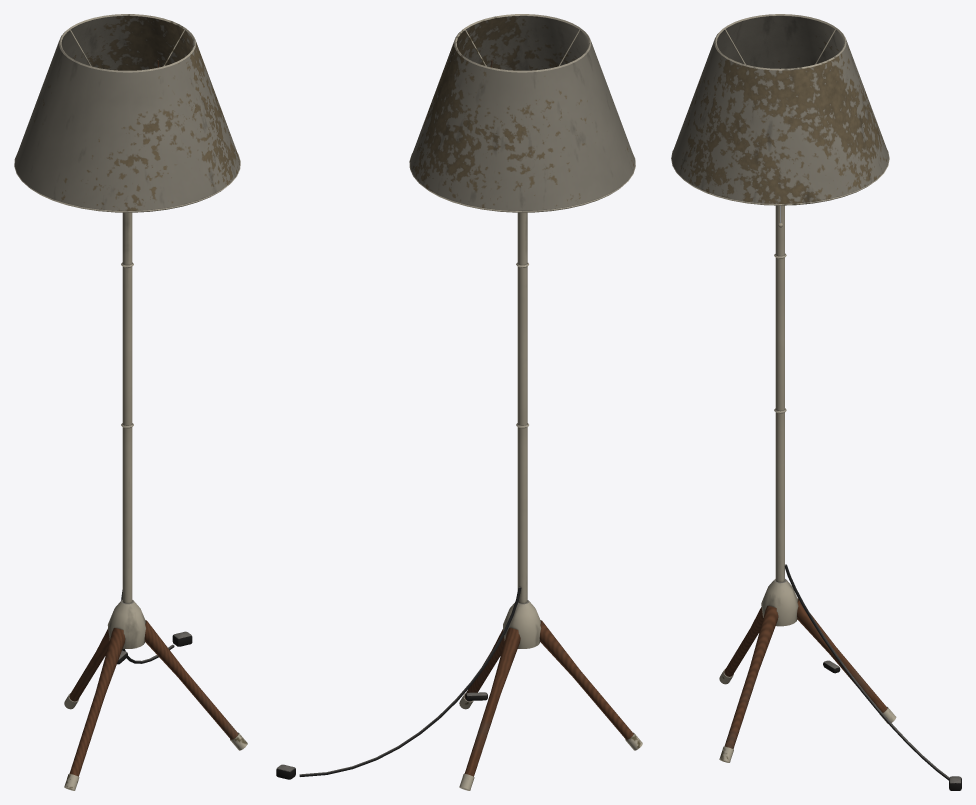
Rendered from SM_FloorLamp.fbx.
The picture shows the model from 3 angles, left to right: view 1: azimuth 30°, elevation 25°; view 2: azimuth 150°, elevation 25°; view 3: azimuth 270°, elevation 25°; orthographic projection. The views are drawn at different scales.
Parts seen in each view (by area): view 1: SM_FloorLamp; view 2: SM_FloorLamp; view 3: SM_FloorLamp.
Part boxes in pixels (x1=…): SM_FloorLamp: x1=14, y1=14, x2=247, y2=790; SM_FloorLamp: x1=276, y1=14, x2=642, y2=790; SM_FloorLamp: x1=671, y1=14, x2=961, y2=790.
Bounding box in the file's own units: 0.656 × 1.76 × 0.681.
Materials: 1 (1 with a texture image).
